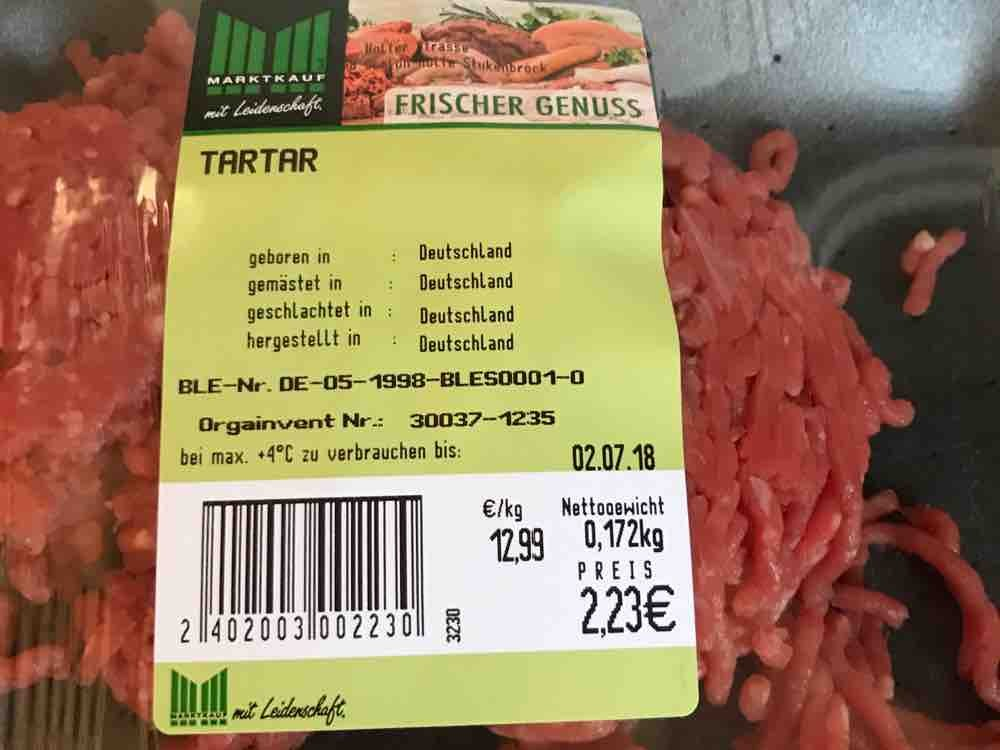ground_beef: (664, 159, 969, 700), (19, 105, 140, 526)
